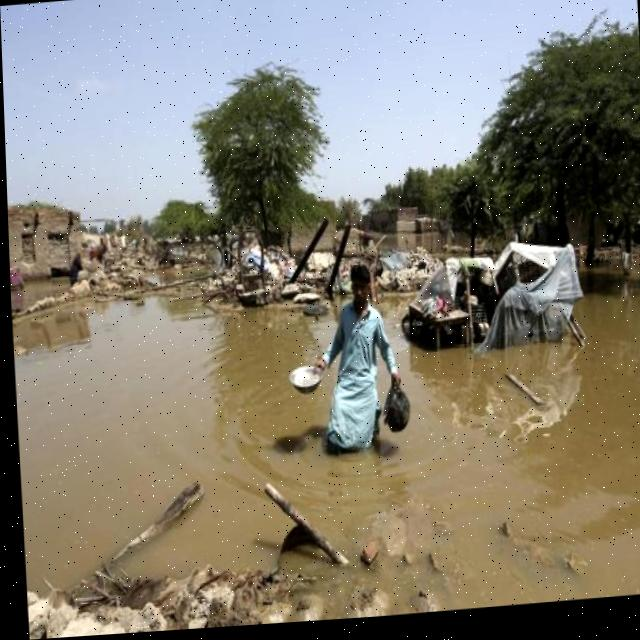civilian: (313, 250, 394, 464)
